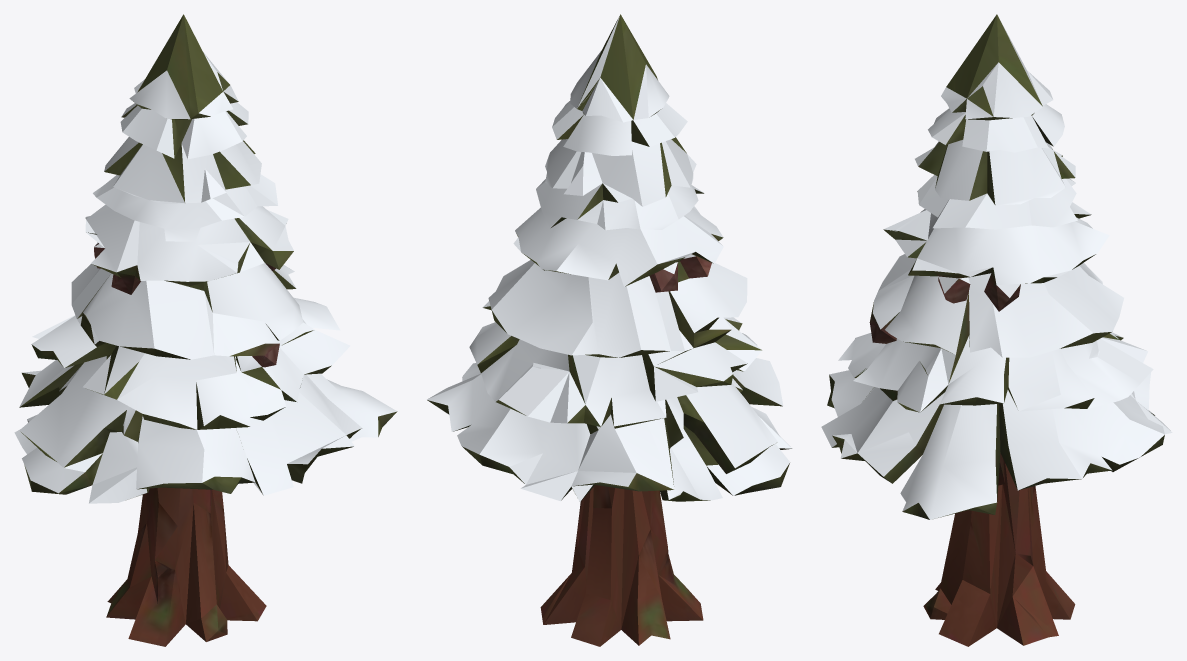
Rendered from bg_snow_pine_3_lod0.glb.
3 renders of one model, left to right at view 1: azimuth 30°, elevation 25°; view 2: azimuth 150°, elevation 25°; view 3: azimuth 270°, elevation 25°, orthographic.
Visible parts, largest first — view 1: sway, body; view 2: sway, body; view 3: sway, body.
Boxes of the visible parts, box(x1,y1,x2,y2) form: sway: box(14, 14, 397, 503); body: box(94, 243, 279, 646); sway: box(427, 14, 791, 501); body: box(540, 254, 791, 646); sway: box(821, 14, 1172, 519); body: box(869, 268, 1075, 646).
Bounding box in the file's own units: 2.65 × 4.51 × 2.39.
Materials: 2 (1 with a texture image).
